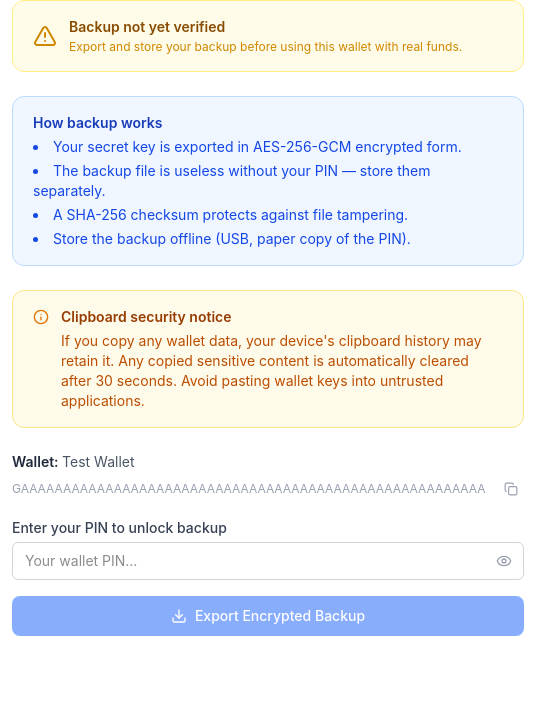
Scenario: WalletBackup – export flow › shows an error banner when export fails with wrong PIN
Type "wrong" into the password field with placeholder "Your wallet PIN…" at coordinates (268, 561), box left=12, top=542, right=524, bottom=580
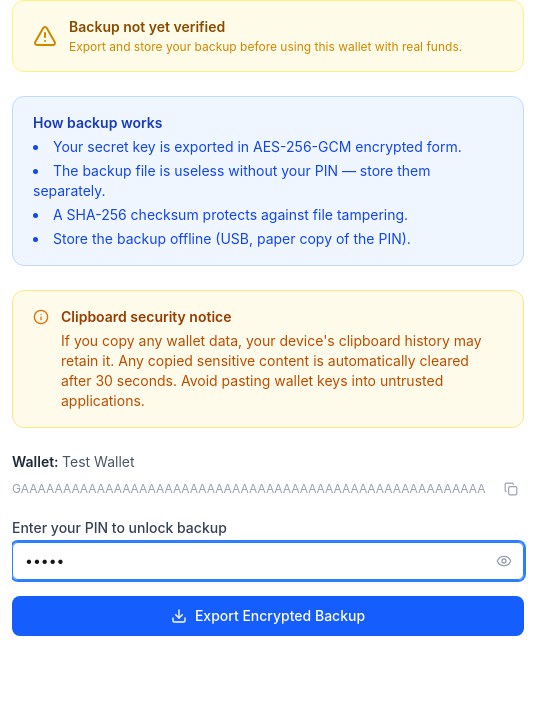
Click the button "Export Encrypted Backup" at coordinates (268, 616), box left=12, top=596, right=524, bottom=636
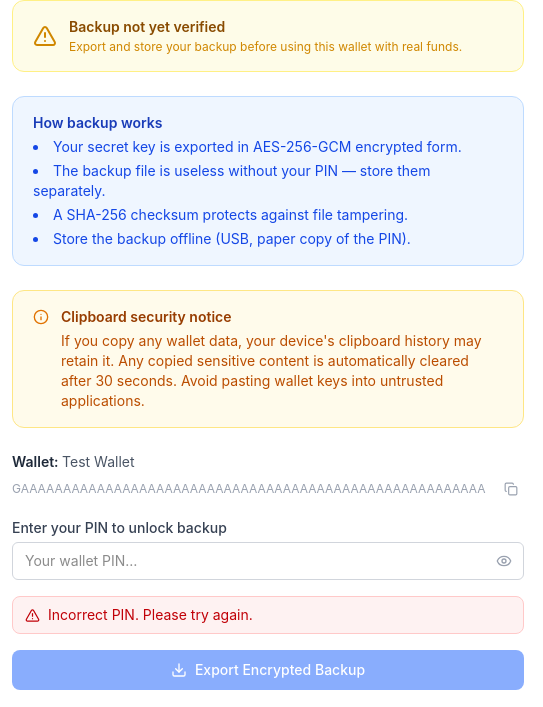
expect the text "Incorrect PIN. Please try again." is shown: met, box left=12, top=596, right=524, bottom=634
